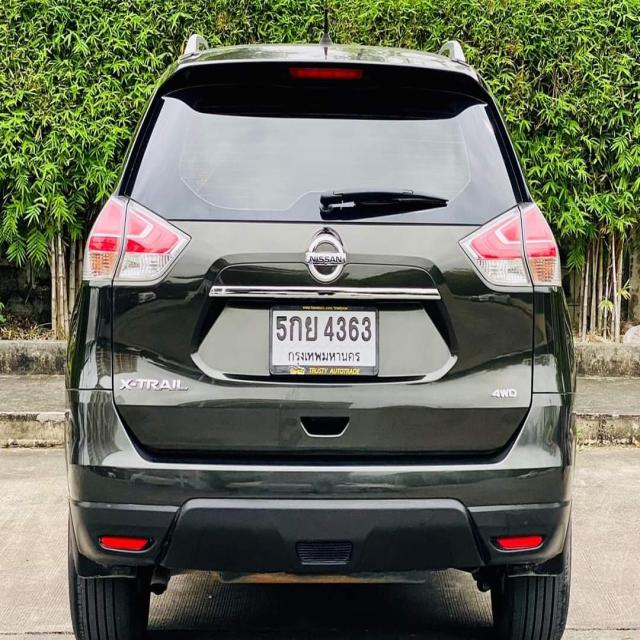license_plate: (269, 302, 380, 378)
